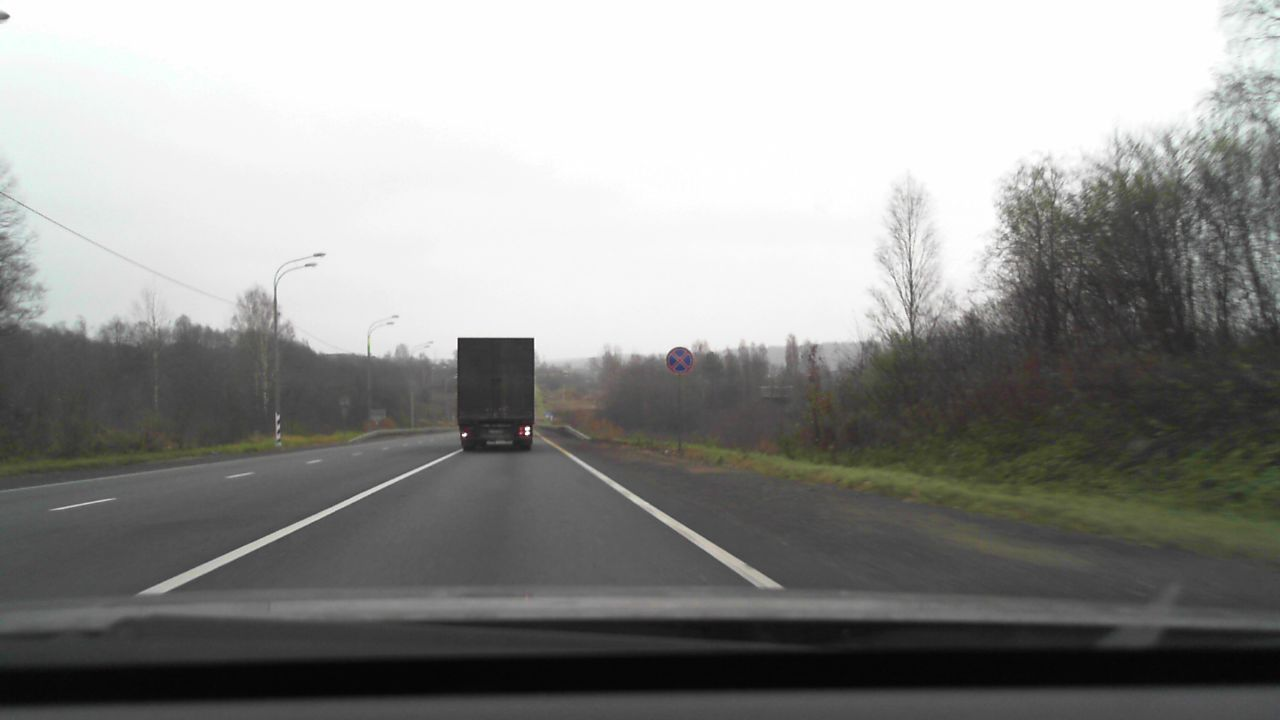No Parking: (665, 346, 694, 375)
